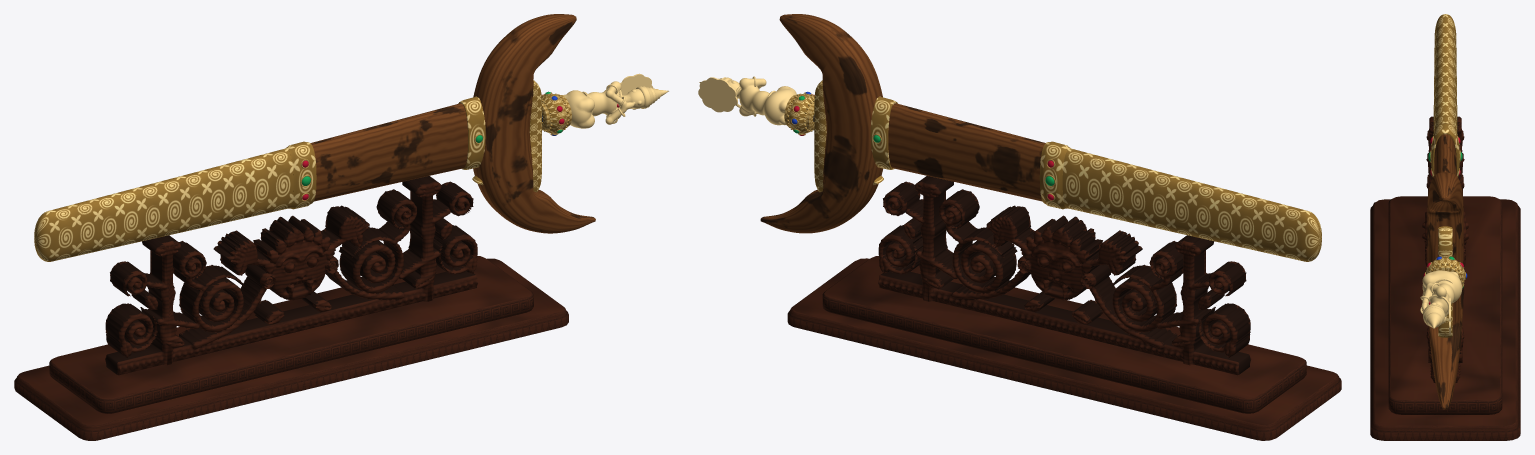
File: keris_bali.glb
The picture shows the model from 3 angles, left to right: view 1: azimuth 30°, elevation 25°; view 2: azimuth 150°, elevation 25°; view 3: azimuth 270°, elevation 25°; orthographic projection. The views are drawn at different scales.
Parts seen in each view (by area): view 1: Jagrak_Ukiran, Jagrak_Kaki, Pendok, Warangka_Branggah, Gandar, Hulu, Cincin, Ganja, Selut; view 2: Jagrak_Ukiran, Jagrak_Kaki, Pendok, Warangka_Branggah, Gandar, Hulu, Cincin, Ganja, Selut; view 3: Jagrak_Kaki, Warangka_Branggah, Pendok, Hulu, Jagrak_Ukiran, Gandar, Ganja, Cincin, Selut.
Boxes of the visible parts, bbox=[...] form: Jagrak_Ukiran: bbox=[105, 176, 477, 375]; Jagrak_Kaki: bbox=[14, 256, 568, 440]; Pendok: bbox=[34, 148, 293, 261]; Warangka_Branggah: bbox=[473, 14, 595, 233]; Gandar: bbox=[310, 103, 467, 201]; Hulu: bbox=[562, 73, 668, 128]; Cincin: bbox=[285, 96, 485, 209]; Ganja: bbox=[472, 80, 541, 192]; Selut: bbox=[541, 92, 571, 135]; Jagrak_Ukiran: bbox=[878, 176, 1251, 375]; Jagrak_Kaki: bbox=[787, 256, 1341, 440]; Pendok: bbox=[1062, 148, 1321, 261]; Warangka_Branggah: bbox=[760, 14, 882, 233]; Gandar: bbox=[888, 103, 1045, 201]; Hulu: bbox=[698, 76, 796, 125]; Cincin: bbox=[870, 96, 1070, 209]; Ganja: bbox=[814, 80, 883, 192]; Selut: bbox=[784, 92, 814, 135]; Jagrak_Kaki: bbox=[1370, 196, 1520, 440]; Warangka_Branggah: bbox=[1427, 172, 1463, 409]; Pendok: bbox=[1433, 14, 1457, 134]; Hulu: bbox=[1420, 270, 1462, 334]; Jagrak_Ukiran: bbox=[1422, 116, 1468, 382]; Gandar: bbox=[1434, 134, 1456, 175]; Ganja: bbox=[1438, 226, 1452, 337]; Cincin: bbox=[1430, 122, 1460, 176]; Selut: bbox=[1425, 256, 1465, 287].
Size of the model in its own units: 0.579 by 0.2452 by 0.124.
Materials: 10 (5 with a texture image).
